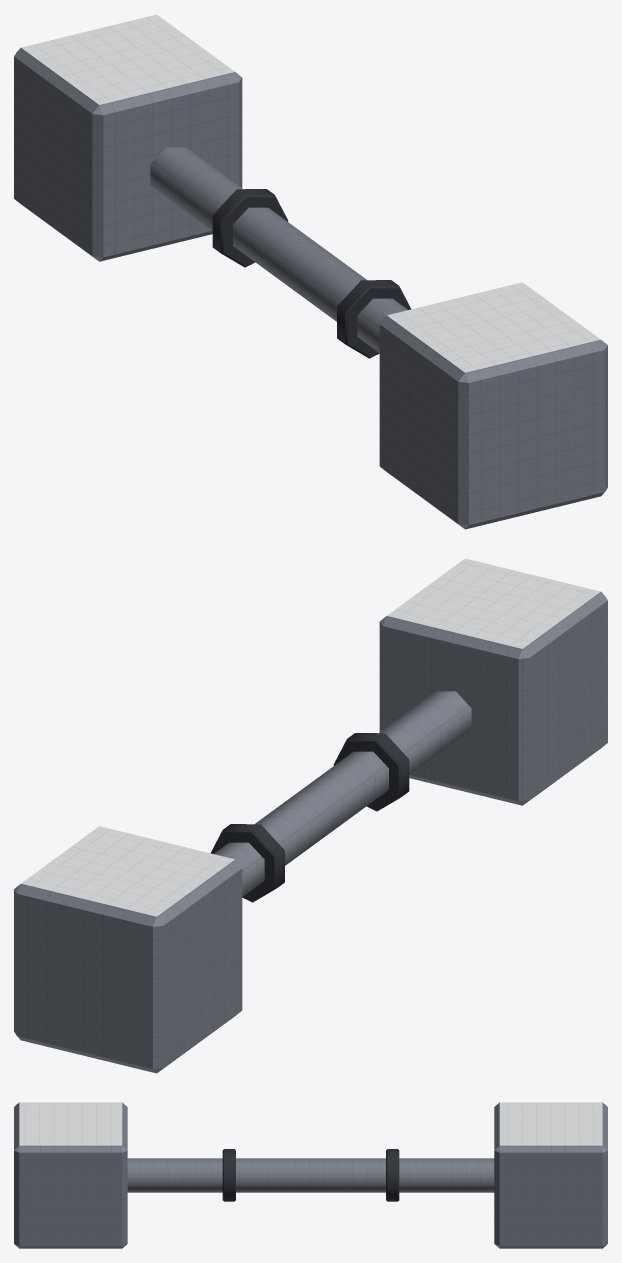
File: R4C_STRUT_LONG_LOD1.glb
3 renders of one model, top to bottom at view 1: azimuth 30°, elevation 25°; view 2: azimuth 150°, elevation 25°; view 3: azimuth 270°, elevation 25°, orthographic. The views are drawn at different scales.
Visible parts, largest first — view 1: R4C_STRUT_LONG_LOD1; view 2: R4C_STRUT_LONG_LOD1; view 3: R4C_STRUT_LONG_LOD1.
Boxes of the visible parts, left/top/right/bottom form: R4C_STRUT_LONG_LOD1: left=14, top=14, right=607, bottom=529; R4C_STRUT_LONG_LOD1: left=14, top=558, right=607, bottom=1073; R4C_STRUT_LONG_LOD1: left=14, top=1102, right=607, bottom=1248.
Size of the model in its own units: 0.52 by 0.52 by 2.72.
3 materials, 3 textured.
